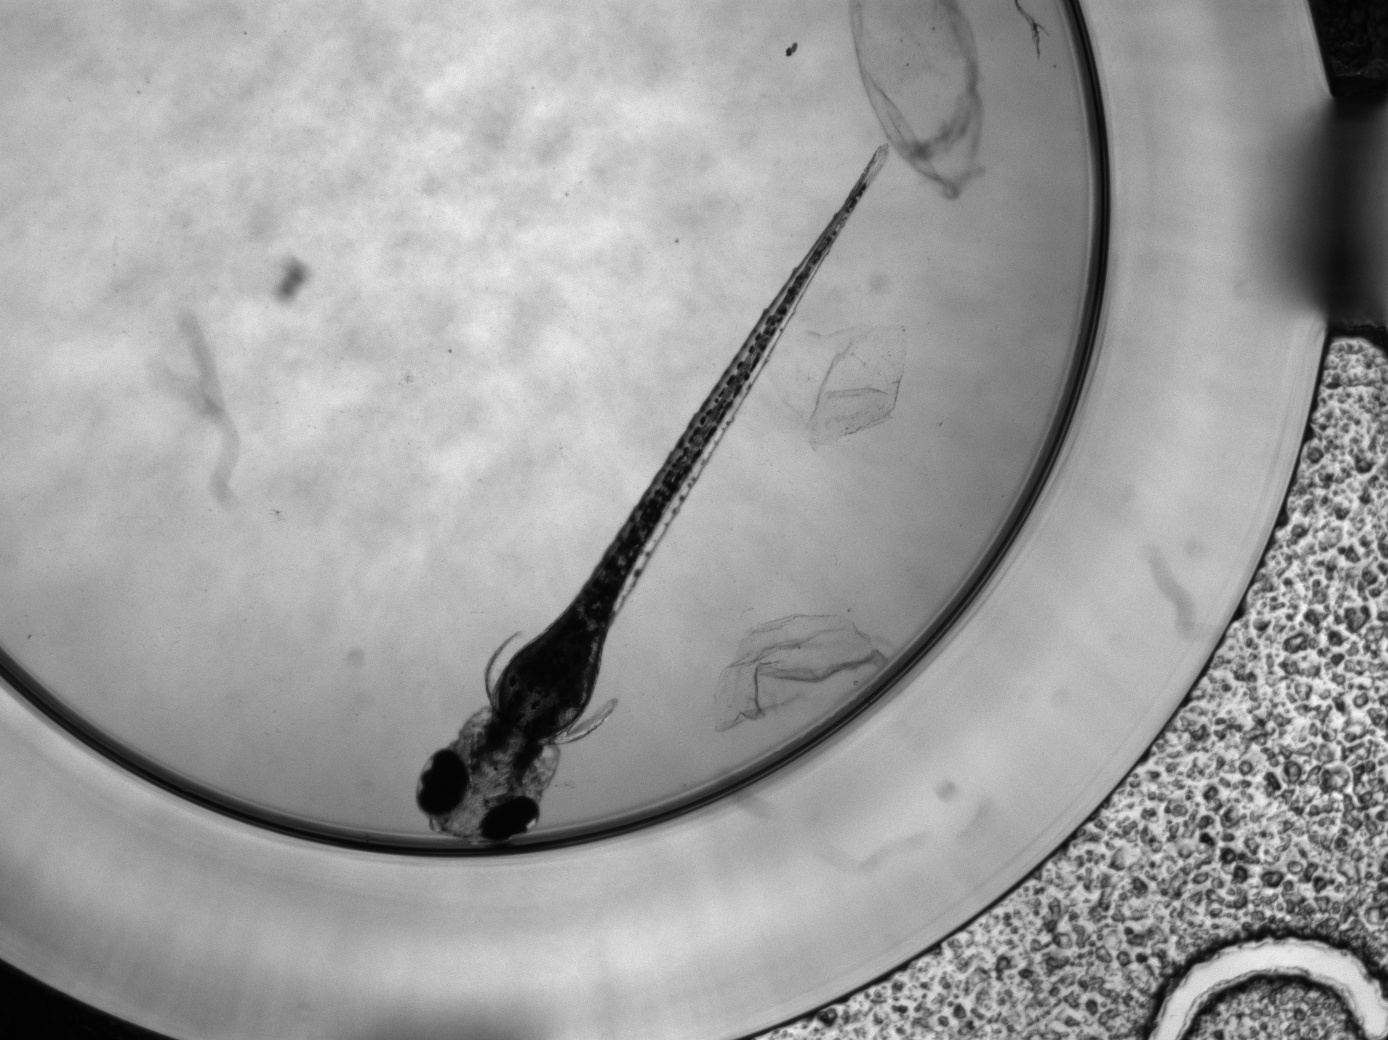debris: (849, 1, 985, 201), (713, 606, 888, 732), (797, 323, 910, 448)
embryo: (414, 145, 892, 848)
eye: (418, 749, 468, 819), (481, 797, 542, 844)
yolksac: (490, 640, 600, 736)
